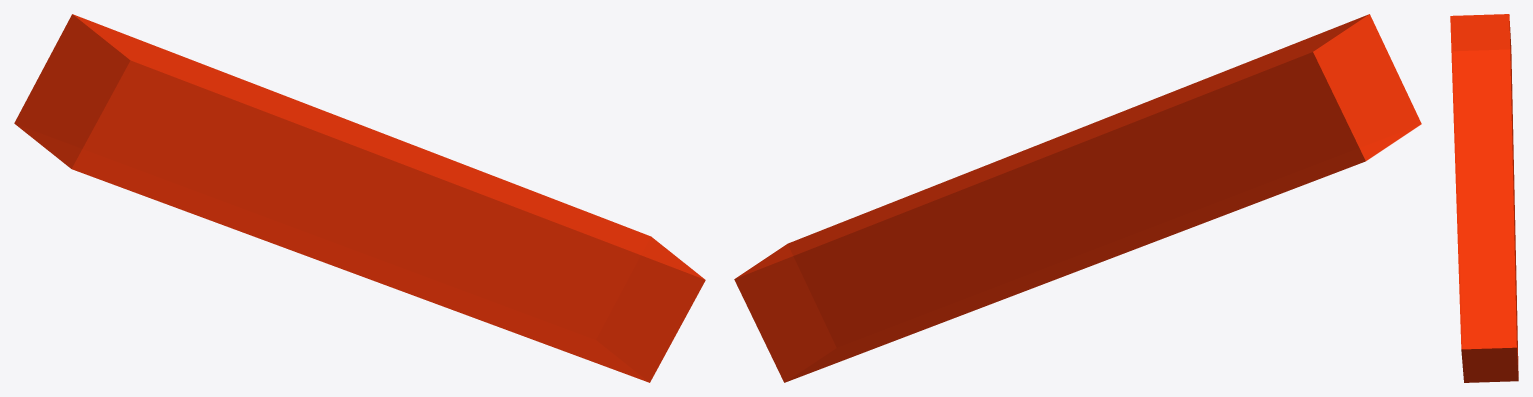
Rendered from Event_421115418_EBrechit_20.fbx.
3 views of the same model, side by side, from view 1: azimuth 30°, elevation 25°; view 2: azimuth 150°, elevation 25°; view 3: azimuth 270°, elevation 25° (orthographic). The views are drawn at different scales.
Parts seen in each view (by area): view 1: Model; view 2: Model; view 3: Model.
Part boxes in pixels (x1=…): Model: x1=14, y1=14, x2=705, y2=382; Model: x1=734, y1=14, x2=1421, y2=382; Model: x1=1450, y1=14, x2=1518, y2=382.
Size of the model in its own units: 0.3811 by 0.2644 by 0.0692.
